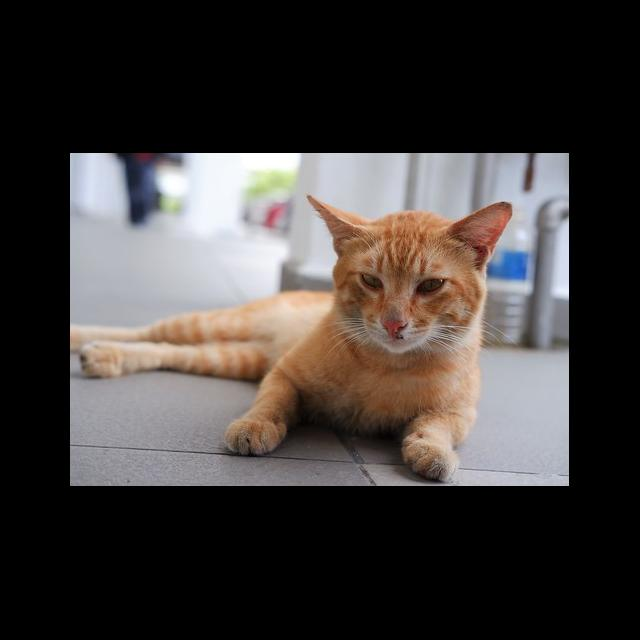animals: (80, 196, 514, 482)
